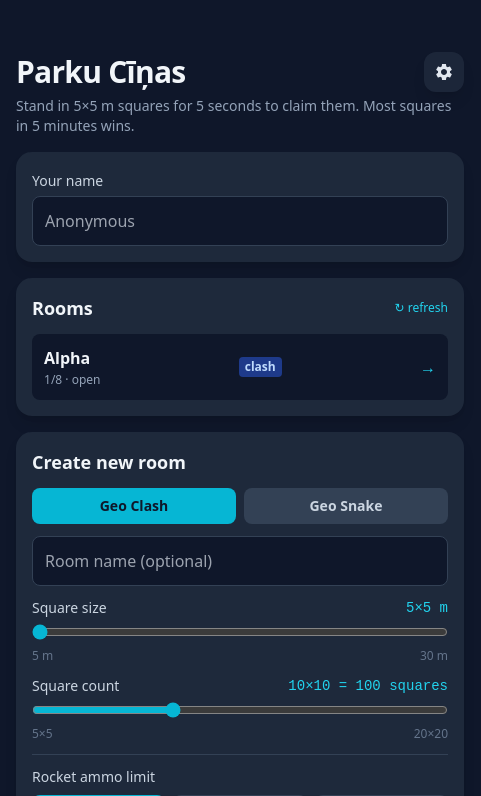
it: joinRoom › shows error but does not refresh for other reasons
Click the button "Alpha 1/8 · open clash →" at (240,367), box [32, 334, 448, 400]
(page scrolled)
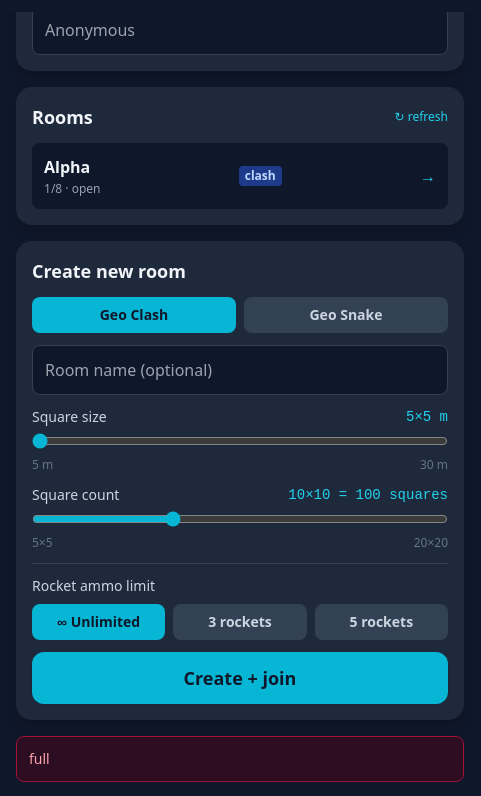
Expected: the text "full" is shown, [16, 736, 464, 782]
